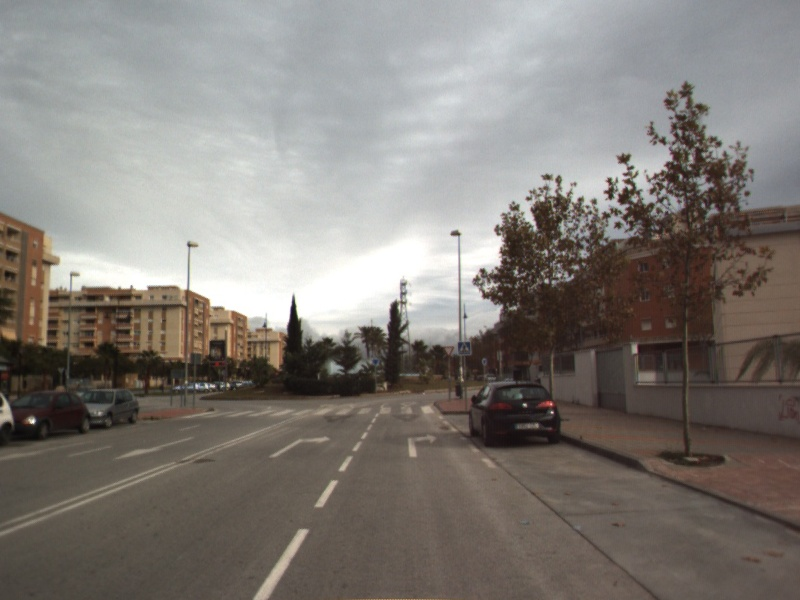RIGHT: (266, 434, 333, 460), (405, 431, 440, 459)
